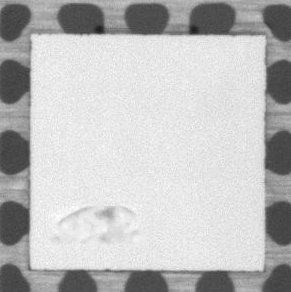DIE_INK: (51, 203, 142, 247)
